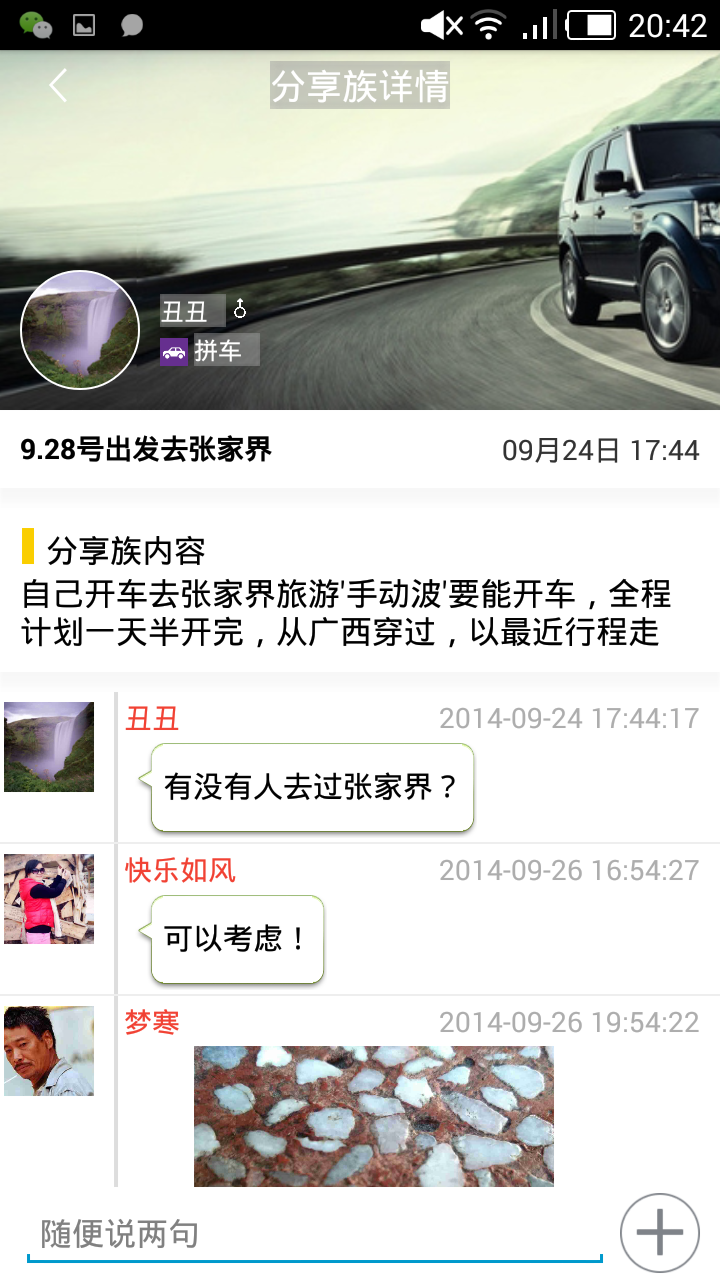imgbutton: (615, 1191, 709, 1280), (28, 64, 83, 113)
textview: (11, 510, 720, 671), (15, 1205, 619, 1274)
